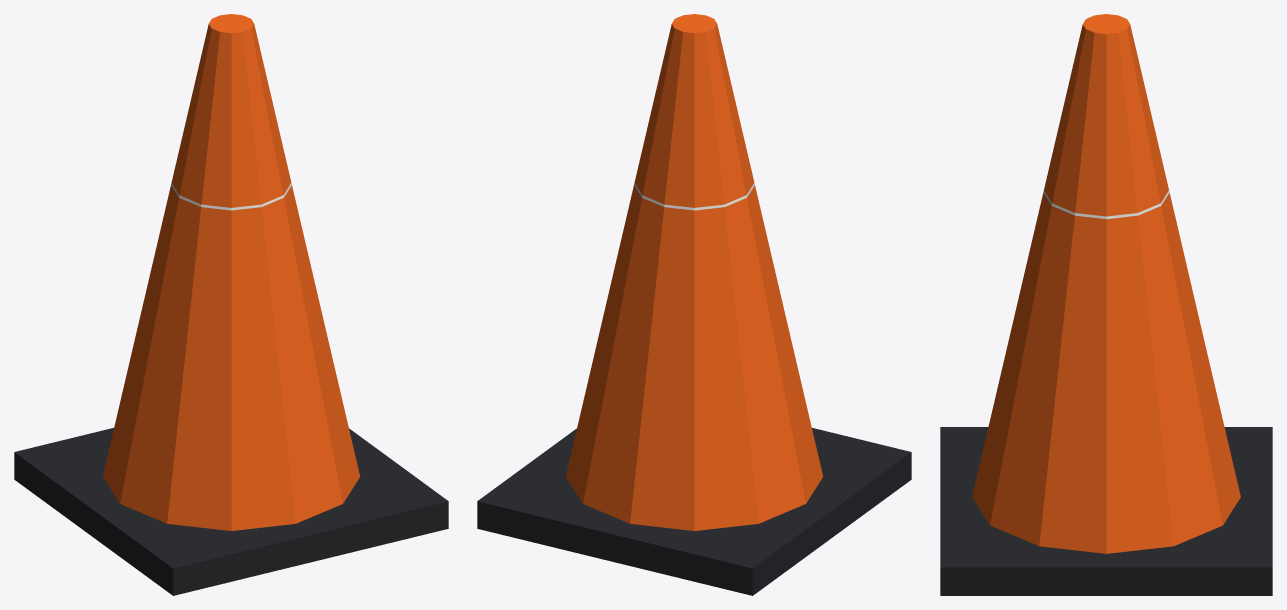
Rendered from traffic_cone.glb.
3 views of the same model, side by side, from view 1: azimuth 30°, elevation 25°; view 2: azimuth 150°, elevation 25°; view 3: azimuth 270°, elevation 25° (orthographic). The views are drawn at different scales.
Parts seen in each view (by area): view 1: cone_cone_orange, cone_cone_base; view 2: cone_cone_orange, cone_cone_base; view 3: cone_cone_orange, cone_cone_base, cone_cone_white.
Boxes of the visible parts, x1,y1,x2,y2 form: cone_cone_orange: (102,14,360,530); cone_cone_base: (14,428,448,595); cone_cone_orange: (565,14,823,530); cone_cone_base: (477,428,911,595); cone_cone_orange: (972,14,1240,553); cone_cone_base: (940,427,1272,595); cone_cone_white: (1043,190,1169,219).
Size of the model in its own units: 0.42 by 0.7 by 0.42.
